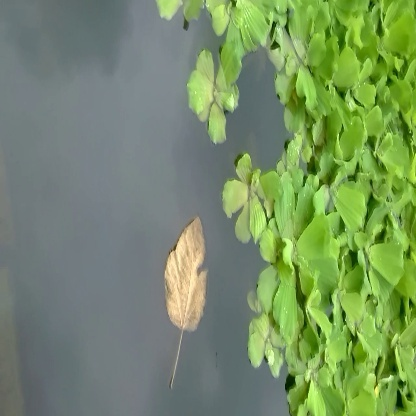leaf: (152, 213, 212, 383)
